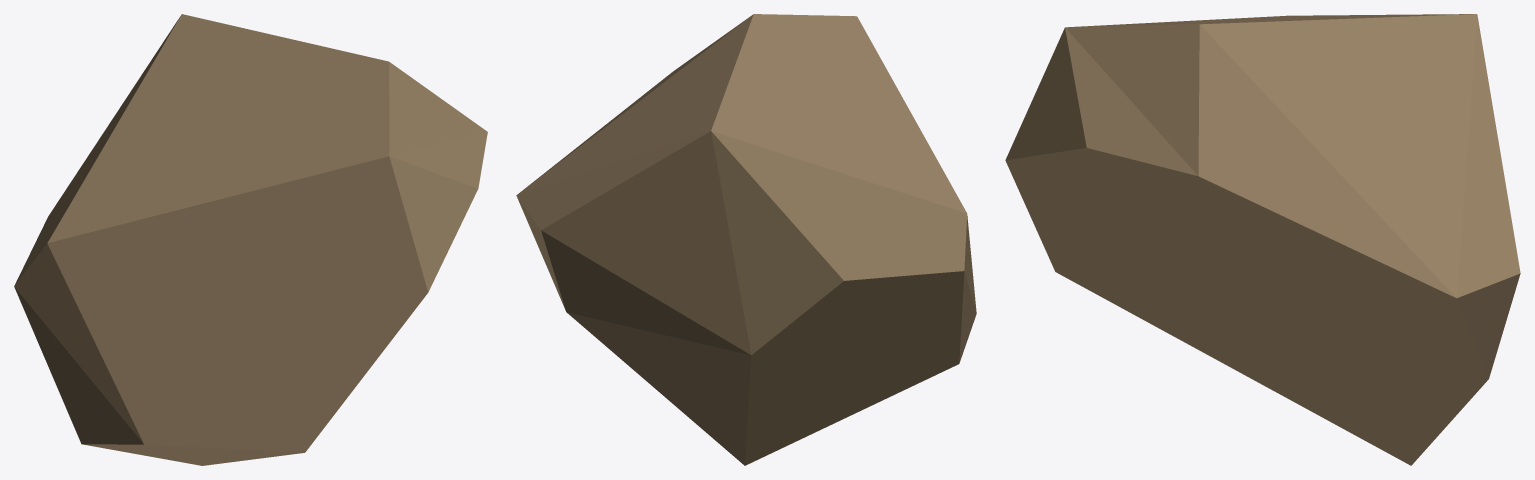
The model's file is Rock16.fbx.
3 views of the same model, side by side, from view 1: azimuth 30°, elevation 25°; view 2: azimuth 150°, elevation 25°; view 3: azimuth 270°, elevation 25° (orthographic). The views are drawn at different scales.
Parts seen in each view (by area): view 1: Rock16; view 2: Rock16; view 3: Rock16.
Boxes of the visible parts, box(x1,y1,x2,y2) form: Rock16: box(14, 14, 487, 465); Rock16: box(516, 14, 976, 465); Rock16: box(1005, 14, 1520, 465).
Size of the model in its own units: 10.12 by 9.1 by 8.71.
